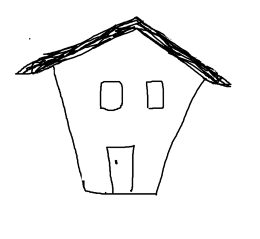door: (100, 136, 146, 200)
open_window: (95, 78, 129, 114), (142, 76, 170, 110)
shaded_roof: (16, 16, 232, 88)
wall: (50, 39, 208, 198)
